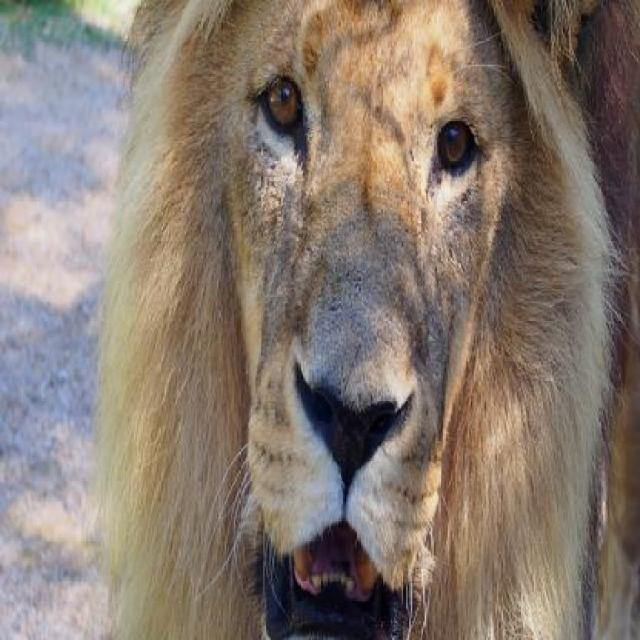Lion: (97, 11, 632, 638)
